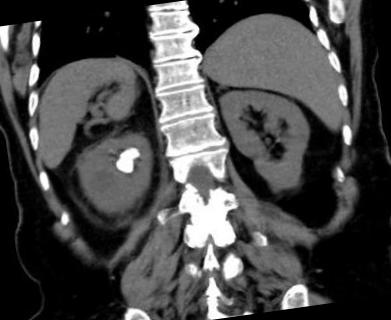Tas_Var: (111, 142, 144, 178)
